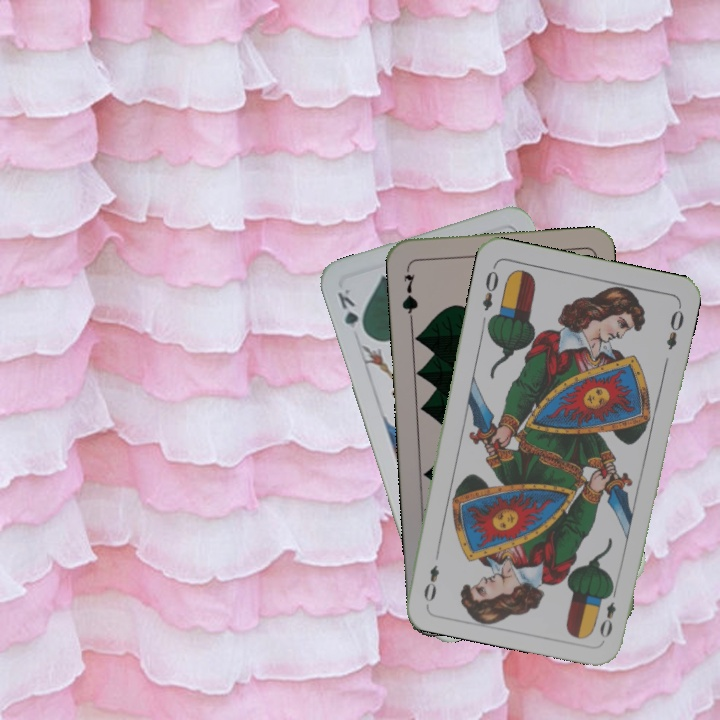EO: (596, 583, 620, 641), (478, 261, 501, 313)
G7: (398, 263, 421, 322)
GK: (333, 284, 369, 339)
